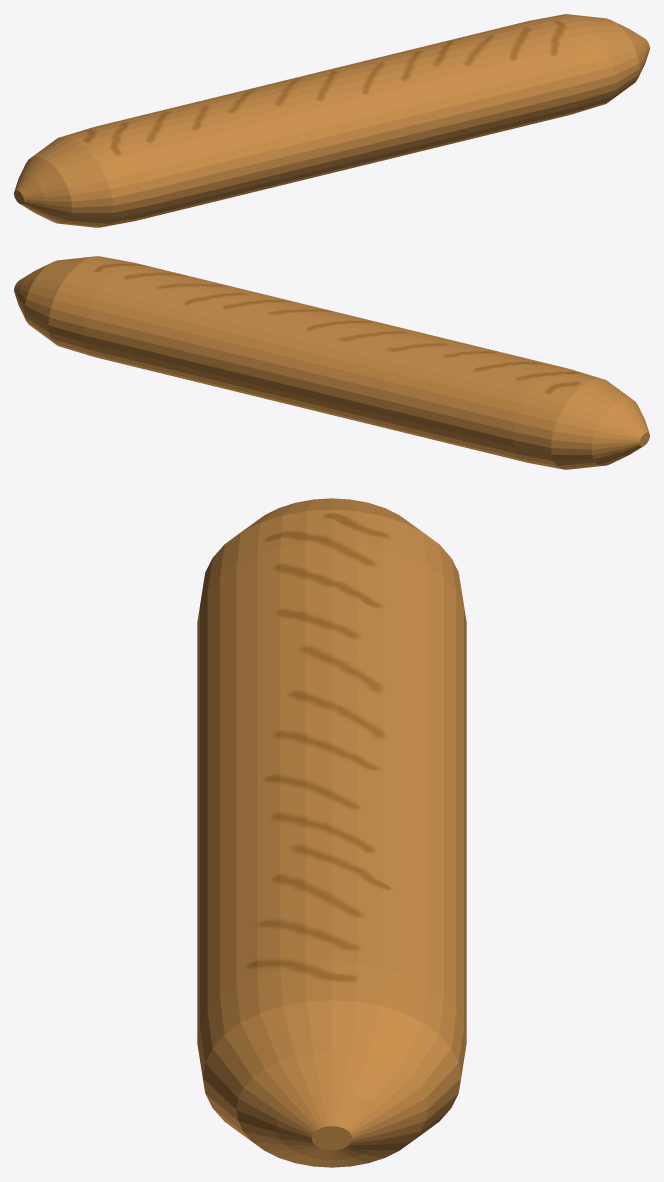
File: Bread.fbx
The picture shows the model from 3 angles, top to bottom: view 1: azimuth 30°, elevation 25°; view 2: azimuth 150°, elevation 25°; view 3: azimuth 270°, elevation 25°; orthographic projection. The views are drawn at different scales.
Parts seen in each view (by area): view 1: Cylinder; view 2: Cylinder; view 3: Cylinder.
Boxes of the visible parts, x1,y1,x2,y2 form: Cylinder: [14, 14, 649, 227]; Cylinder: [14, 256, 649, 469]; Cylinder: [197, 498, 466, 1167].
Bounding box in the file's own units: 40.41 × 5.02 × 7.53.
